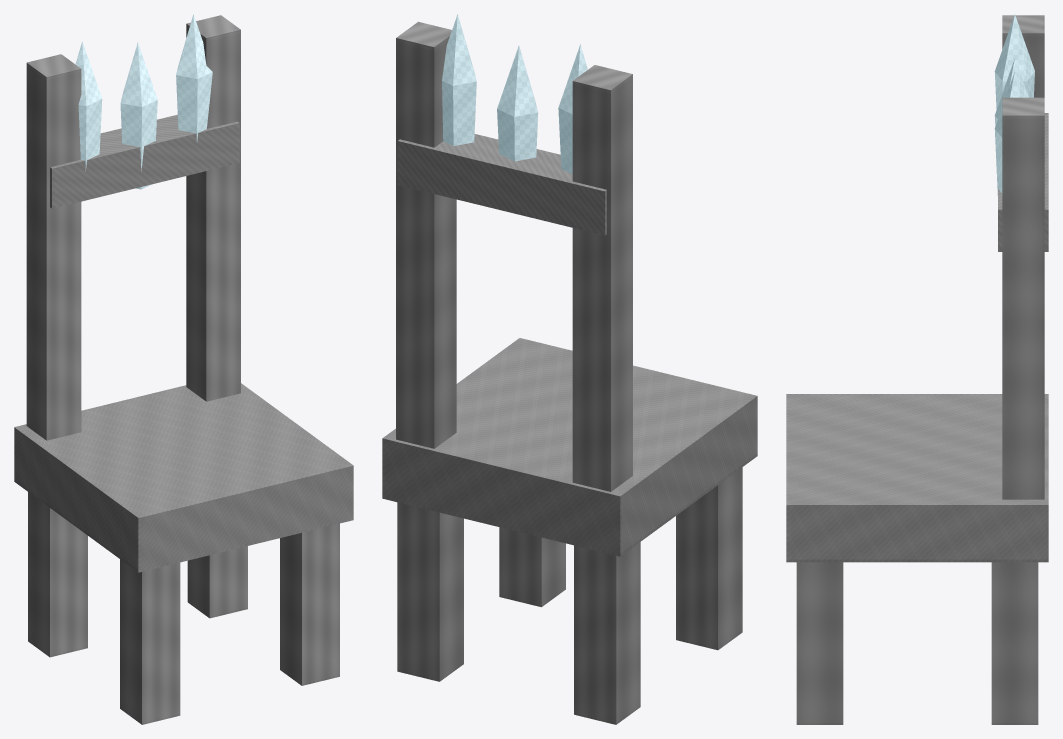
Rendered from furniture-geode-chair.glb.
3 renders of one model, left to right at view 1: azimuth 30°, elevation 25°; view 2: azimuth 150°, elevation 25°; view 3: azimuth 270°, elevation 25°, orthographic. The views are drawn at different scales.
Parts seen in each view (by area): view 1: seat, right-back, left-back, leg-0.23--0.23, back-rail, leg--0.23--0.23, leg-0.23-0.23, leg--0.23-0.23, back-crystal--1, back-crystal-0, back-crystal-1; view 2: seat, right-back, left-back, back-rail, leg-0.23-0.23, leg--0.23-0.23, leg-0.23--0.23, leg--0.23--0.23, back-crystal--1, back-crystal-0, back-crystal-1; view 3: seat, left-back, leg--0.23--0.23, leg--0.23-0.23, back-crystal-1, right-back, back-rail, back-crystal--1, back-crystal-0.
Part boxes in pixels (x1,y1,x2,y2): seat: (14,383,353,572); right-back: (26,54,81,440); left-back: (186,15,240,401); leg-0.23--0.23: (120,559,180,724); back-rail: (50,114,239,208); leg--0.23--0.23: (280,523,339,685); leg-0.23-0.23: (28,492,87,657); leg--0.23-0.23: (187,546,247,618); back-crystal--1: (176,14,212,142); back-crystal-0: (120,42,157,189); back-crystal-1: (75,41,102,171); seat: (382,338,757,556); right-back: (572,65,632,491); left-back: (396,21,456,448); back-rail: (397,134,606,235); leg-0.23-0.23: (574,542,640,724); leg--0.23-0.23: (397,502,463,681); leg-0.23--0.23: (676,467,742,650); leg--0.23--0.23: (499,527,565,607); back-crystal--1: (442,14,476,145); back-crystal-0: (497,45,538,161); back-crystal-1: (558,44,587,173); seat: (786,394,1048,562); left-back: (1002,97,1044,499); leg--0.23--0.23: (796,562,843,724); leg--0.23-0.23: (991,562,1038,724); back-crystal-1: (994,14,1034,109); right-back: (1002,15,1044,97); back-rail: (998,113,1048,251); back-crystal--1: (994,72,1023,195); back-crystal-0: (994,58,1028,126).
Size of the model in its own units: 0.62 by 1.64 by 0.62.
Materials: 11 (11 with a texture image).
